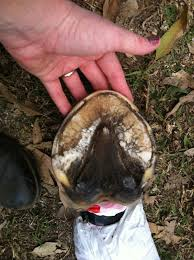horsesole: (50, 90, 156, 187)
